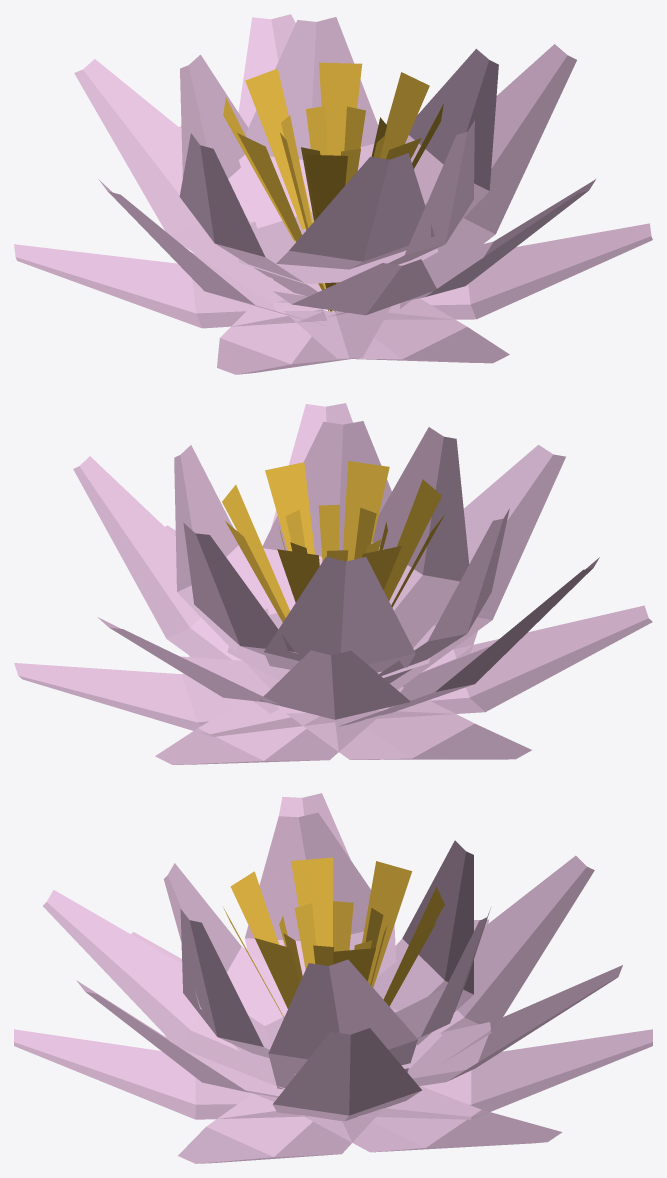
File: lilia.fbx
3 renders of one model, top to bottom at view 1: azimuth 30°, elevation 25°; view 2: azimuth 150°, elevation 25°; view 3: azimuth 270°, elevation 25°, orthographic.
Parts seen in each view (by area): view 1: lilia; view 2: lilia; view 3: lilia.
Boxes of the visible parts, x1=… form: lilia: x1=14, y1=14, x2=652, y2=374; lilia: x1=14, y1=403, x2=652, y2=764; lilia: x1=14, y1=793, x2=652, y2=1163.
Size of the model in its own units: 181 by 81.76 by 195.
